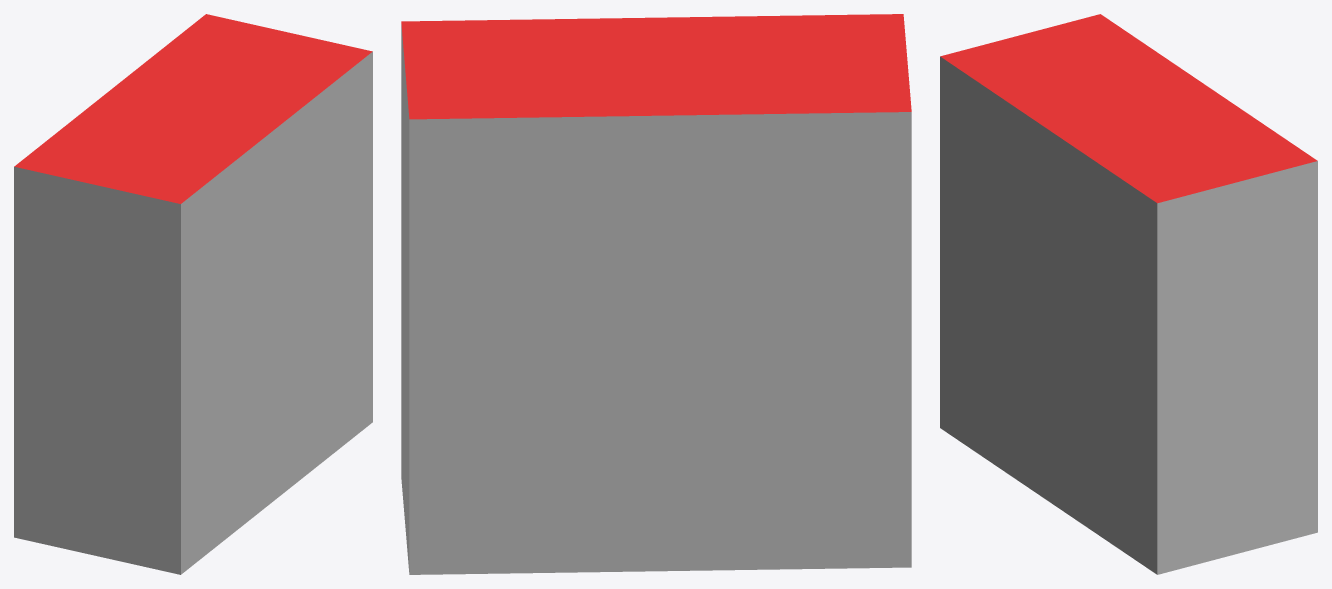
File: ID_29ba7386-21bf-4d34-afb4-7a144780d4c8.dae
The picture shows the model from 3 angles, left to right: view 1: azimuth 30°, elevation 25°; view 2: azimuth 150°, elevation 25°; view 3: azimuth 270°, elevation 25°; orthographic projection. The views are drawn at different scales.
Bounding box in the file's own units: 14.2 × 11.98 × 13.
